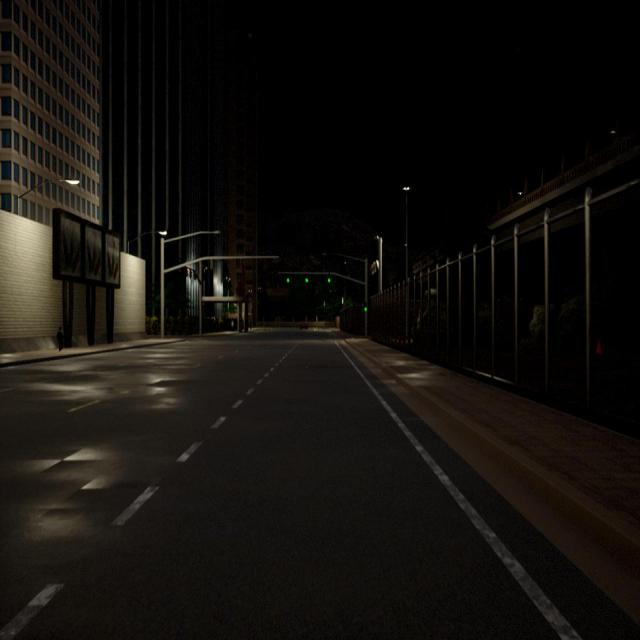Pedestrian: (55, 326, 65, 352)
Vehicle: (300, 322, 308, 330)
traffic_light: (286, 274, 291, 284), (363, 302, 368, 312), (305, 273, 309, 283), (184, 267, 188, 277), (373, 262, 377, 272), (371, 264, 374, 275), (328, 274, 331, 284), (194, 270, 197, 280), (190, 268, 192, 278)
